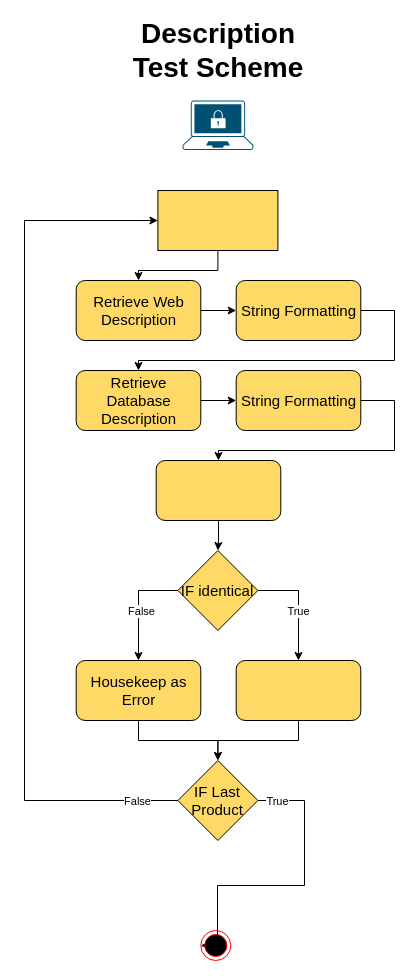
This 420x978 diagram has some shape labels left out. The shapes that lost their labels are listed below. From the top down, each one's centre as x and y in pixels, then its label:
At [217,220]: "For Each Product".
At [218,490]: "Compare Strings".
At [298,690]: "Housekeep as Successful".
